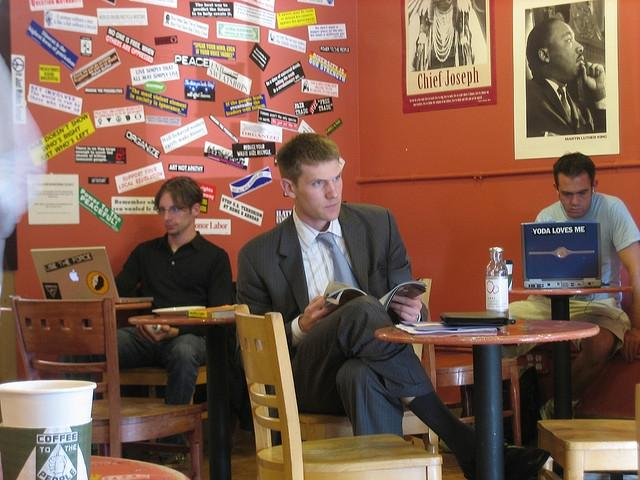apple: (69, 270, 79, 282)
